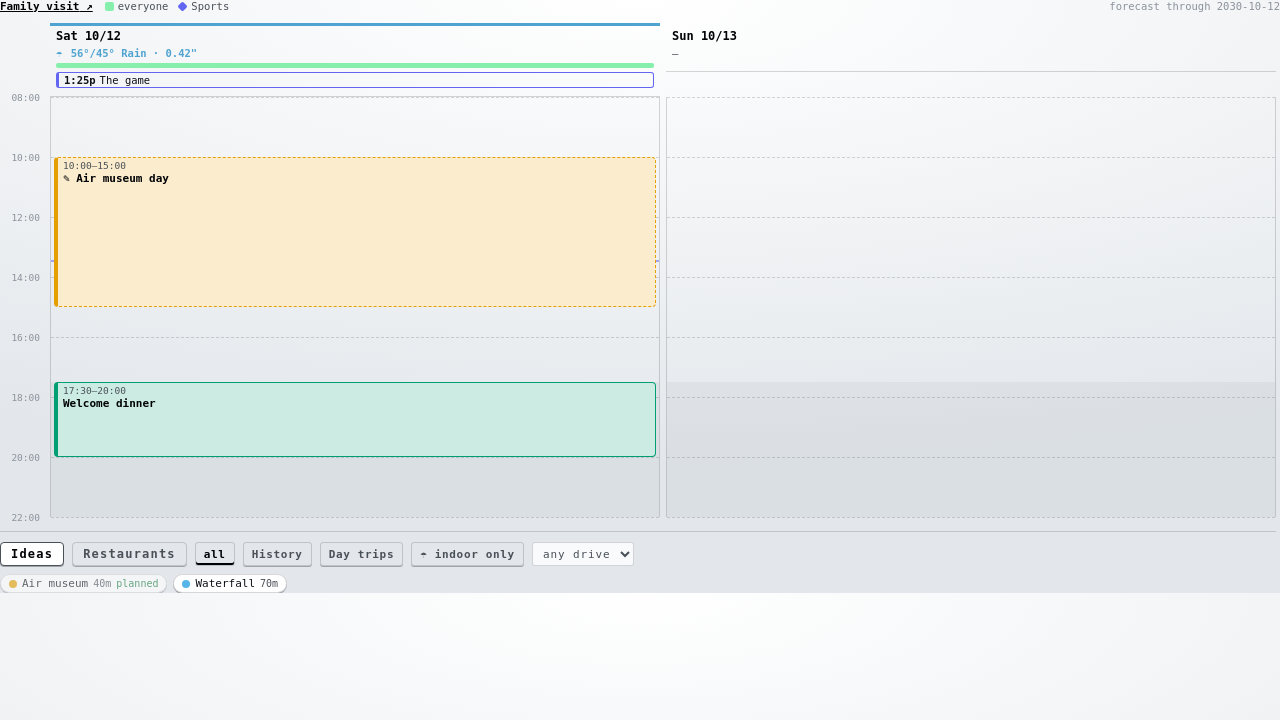
ScheduleBoard › chips filter, mark planned items, and open the popup
The width and height of the screenshot is (1280, 720).
Click the button "☂ indoor only".
click(468, 554)  # box 411,542 -> 524,566
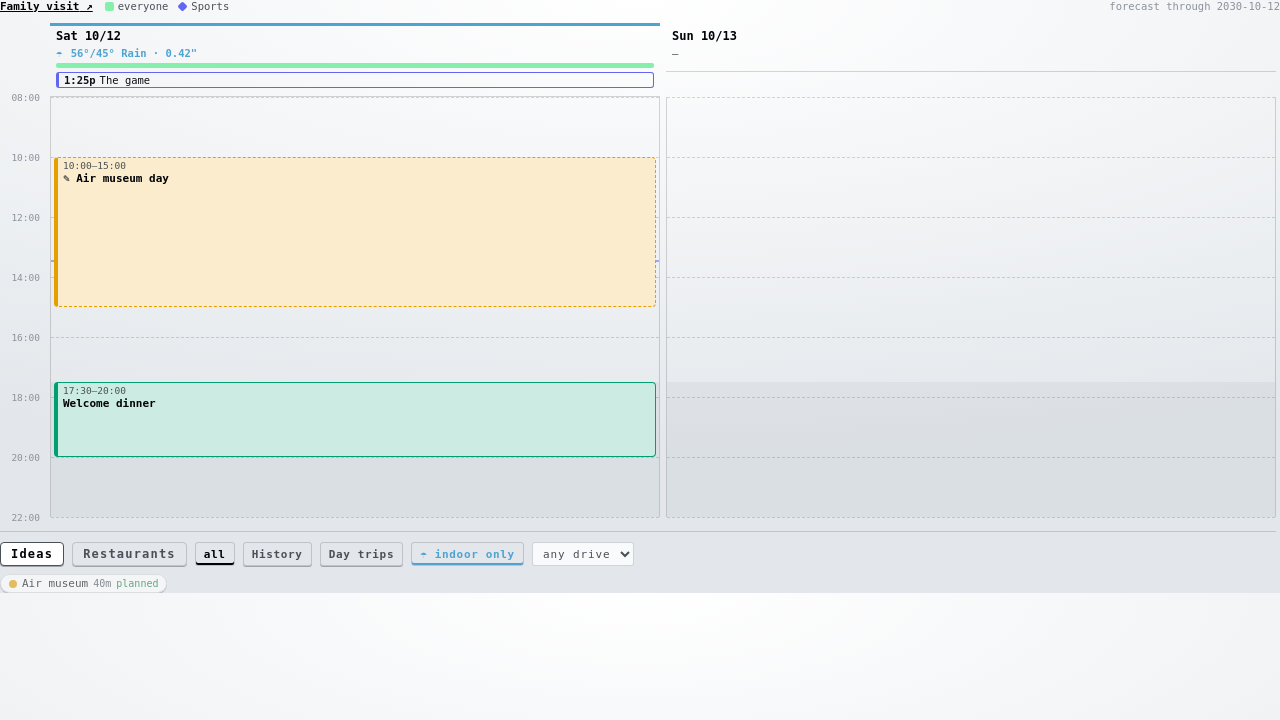
Expected: the button "Waterfall" is gone
Click the button "Restaurants".
click(129, 554)  # box 72,542 -> 187,566
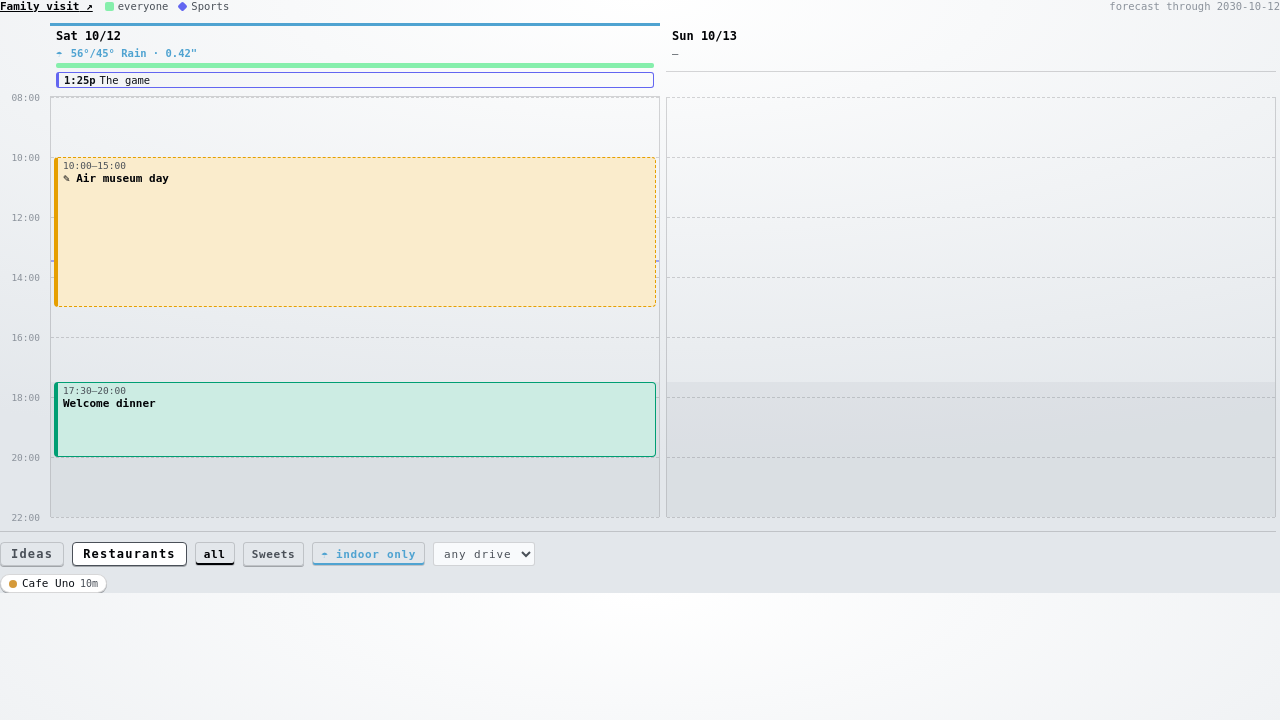
Click the button "Cafe Uno 10m".
click(54, 584)  # box 0,574 -> 107,593
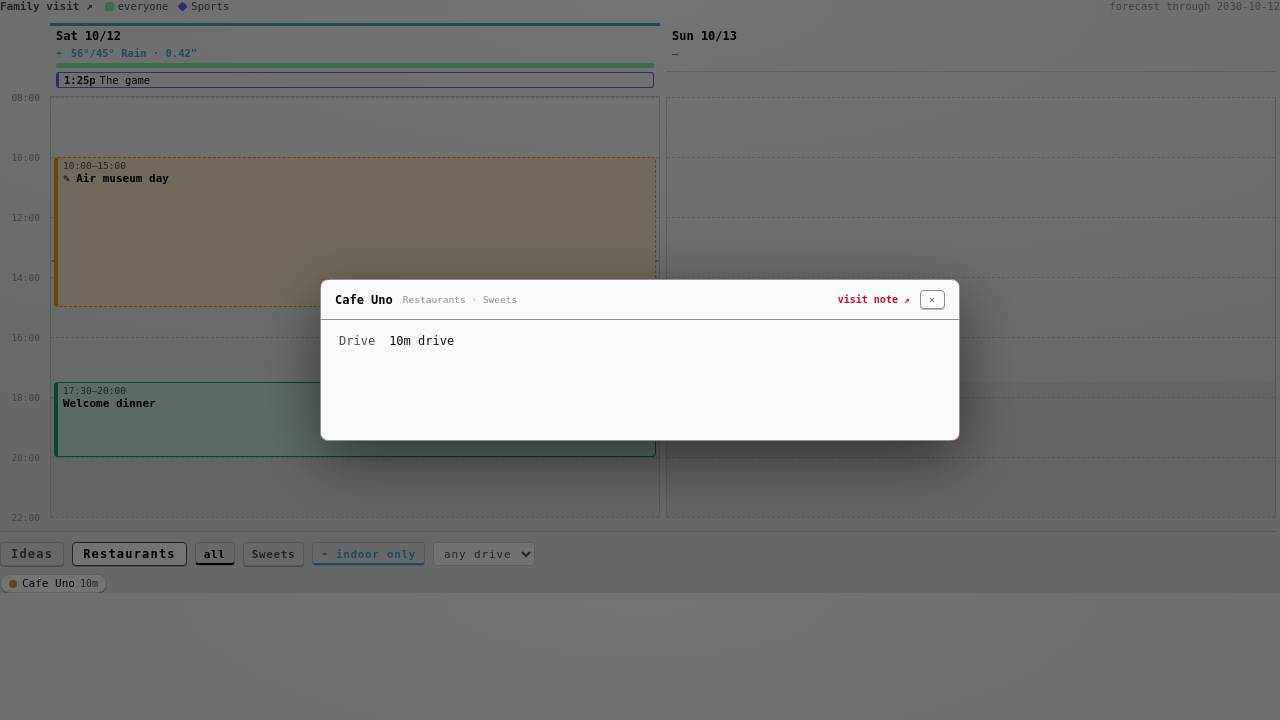
Expected: the dialog "Cafe Uno" is shown, 320,279 -> 960,441
